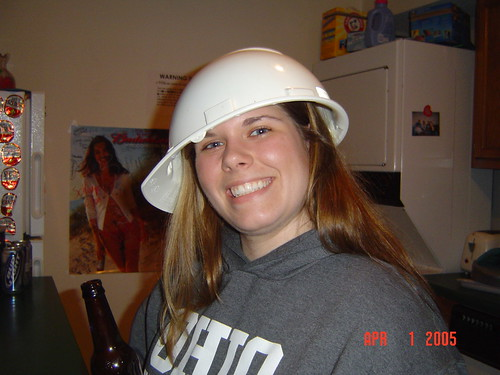person hardhat: (139, 48, 349, 238)
